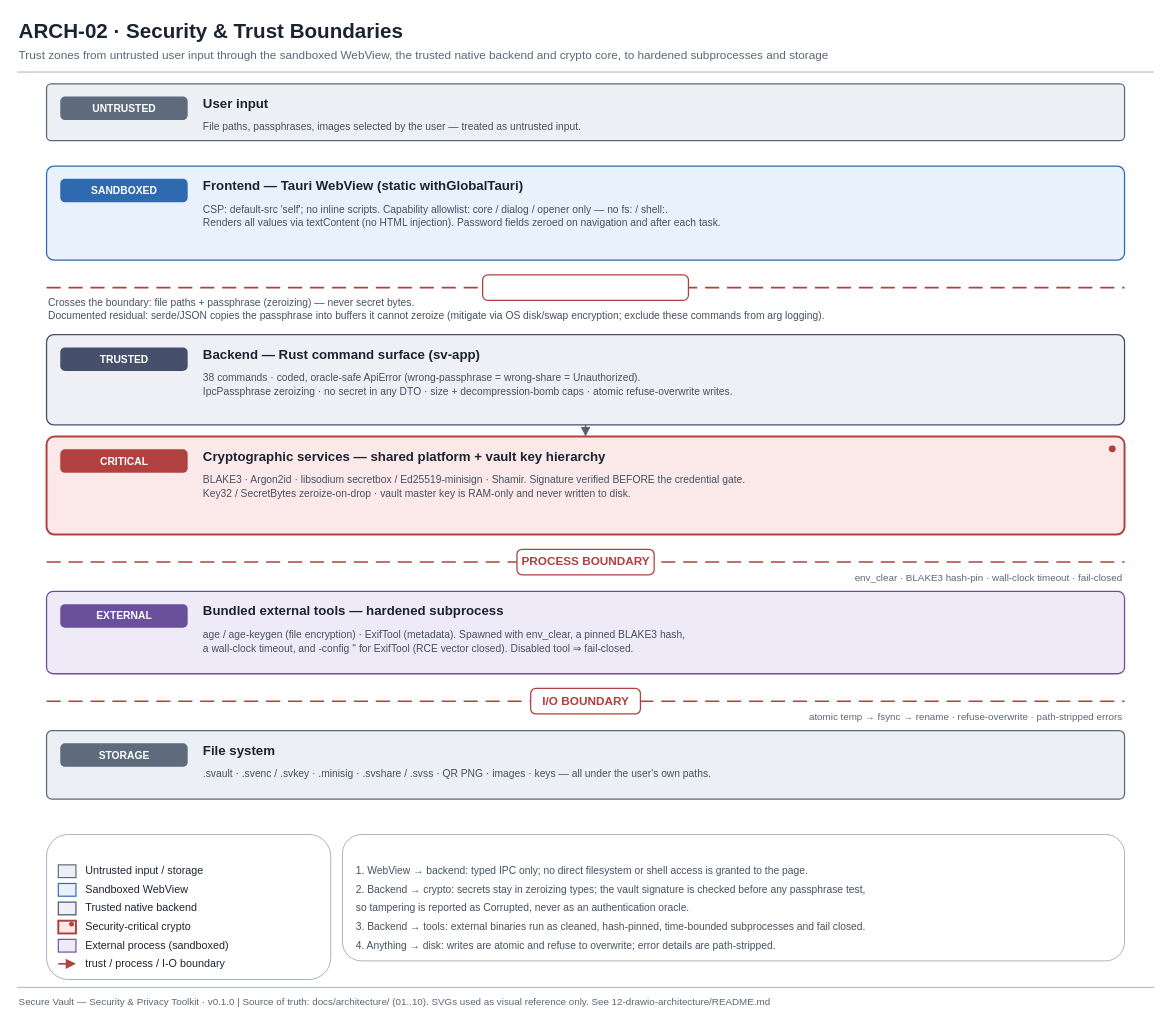
Image size: 1172x1025. Some labels were removed from this diagram. The shapes that lost their labels are listed below. From the top down, each one's box as (x1, y1, x2, y2) in pixels, then its label:
(482, 274, 689, 301): IPC TRUST BOUNDARY (JSON)
(46, 833, 331, 980): Legend
(342, 833, 1125, 961): Boundary controls (defence in depth)
